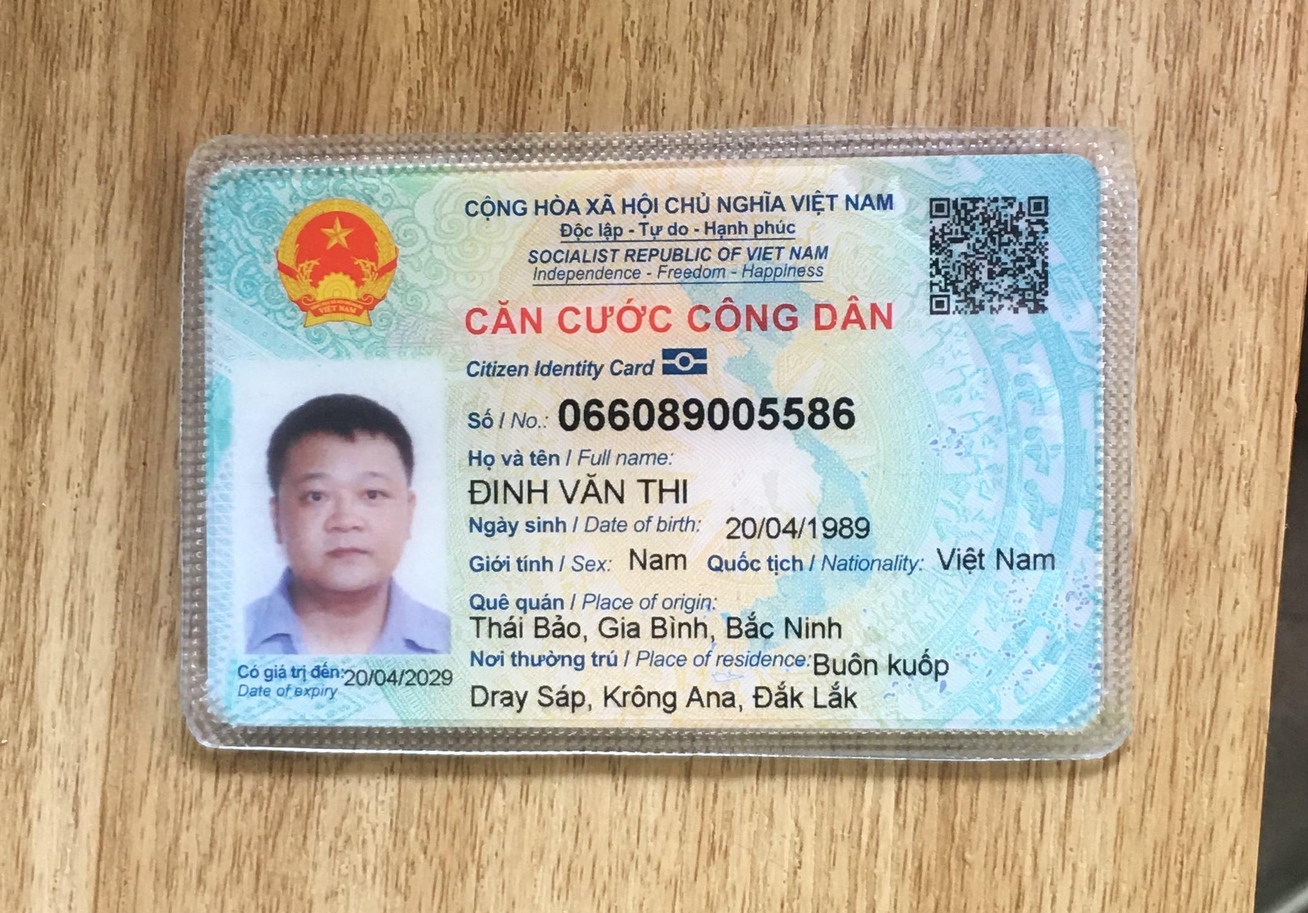ID: (551, 388, 861, 436)
birth: (710, 508, 888, 545)
name: (456, 470, 703, 509)
place: (462, 610, 856, 648)
residence: (456, 674, 871, 716), (807, 643, 958, 685)
